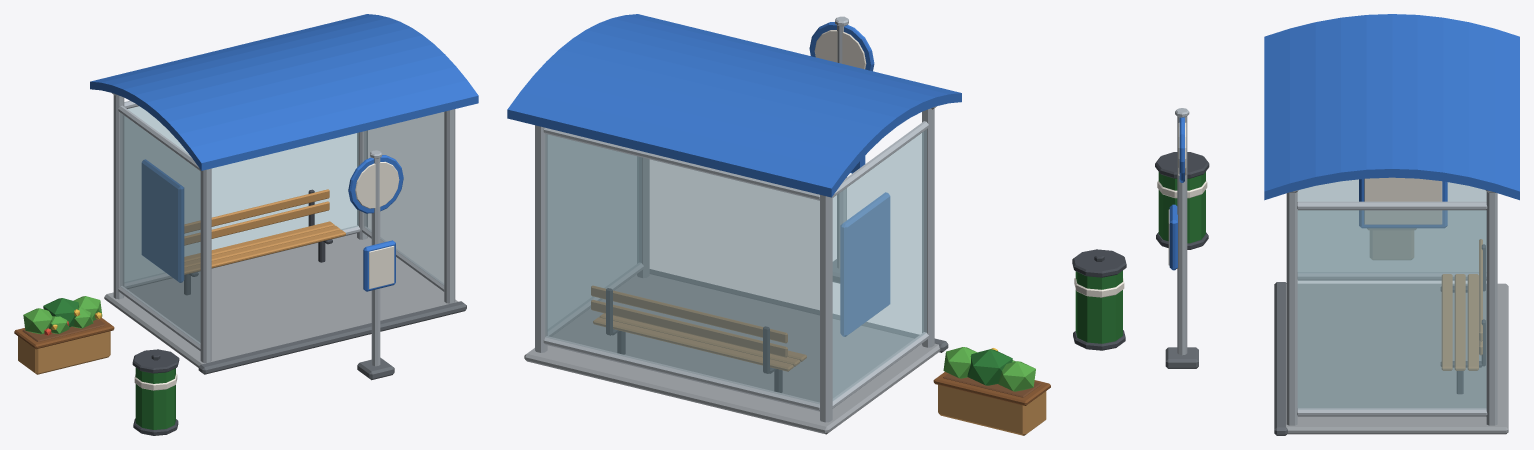
Rendered from town-bus-stop.glb.
The picture shows the model from 3 angles, left to right: view 1: azimuth 30°, elevation 25°; view 2: azimuth 150°, elevation 25°; view 3: azimuth 270°, elevation 25°; orthographic projection. The views are drawn at different scales.
Parts seen in each view (by area): view 1: Shelter_Roof, Shelter_Slab, Shelter_Glass_Back, Shelter_Glass_L, Shelter_Glass_R, Shelter_MapFrame, Shelter_Kerb, Planter_Box, Shelter_Post_0, Shelter_Post_1, Planter, Shelter_Post_2 (+20 smaller); view 2: Shelter_Glass_Back, Shelter_Roof, Shelter_Slab, Shelter_Glass_L, Shelter_Glass_R, Shelter_MapFrame, Planter_Box, Shelter_Post_0, Shelter_Post_2, Shelter_Post_3, Bin_Body, Planter (+16 smaller); view 3: Shelter_Roof, Shelter_Glass_R, Shelter_Slab, Shelter_Glass_L, Shelter_MapFace, Shelter_Post_1, Shelter_Post_3, Sign_Pole, Bin_Body, Shelter_Rail_RHigh, Shelter_Kerb, Shelter_Rail_RLow (+12 smaller).
Part boxes in pixels (x1,y1,x2,y2): Shelter_Roof: (90,14,478,170); Shelter_Slab: (104,233,458,367); Shelter_Glass_Back: (124,106,358,281); Shelter_Glass_L: (120,113,200,344); Shelter_Glass_R: (364,112,444,285); Shelter_MapFrame: (142,159,183,282); Shelter_Kerb: (198,301,466,374); Planter_Box: (18,331,110,374); Shelter_Post_0: (200,168,211,363); Shelter_Post_1: (444,109,455,303); Planter: (23,296,102,335); Shelter_Post_2: (113,95,124,299); Shelter_Glass_Back: (545,134,819,403); Shelter_Roof: (507,14,961,197); Shelter_Slab: (524,274,940,434); Shelter_Glass_L: (832,129,926,400); Shelter_Glass_R: (548,135,638,328); Shelter_MapFrame: (840,192,889,336); Planter_Box: (938,385,1046,435); Shelter_Post_0: (922,108,934,347); Shelter_Post_2: (820,195,832,422); Shelter_Post_3: (535,125,547,352); Bin_Body: (1075,270,1122,343); Planter: (943,347,1035,391); Shelter_Roof: (1264,14,1519,200); Shelter_Glass_R: (1297,210,1486,409); Shelter_Slab: (1286,283,1508,434); Shelter_Glass_L: (1297,179,1486,271); Shelter_MapFace: (1364,177,1442,224); Shelter_Post_1: (1286,191,1297,425); Shelter_Post_3: (1486,191,1497,425); Sign_Pole: (1177,116,1187,355); Bin_Body: (1158,172,1205,243); Shelter_Rail_RHigh: (1297,201,1487,210); Shelter_Kerb: (1274,282,1287,435); Shelter_Rail_RLow: (1297,408,1487,416).
Bounding box in the file's own units: 18.98 × 10.8 × 13.14.
